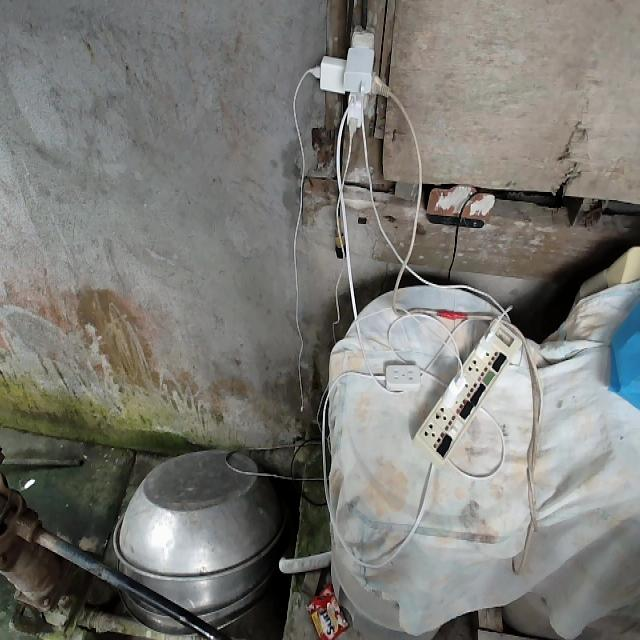-: (313, 24, 394, 140)
